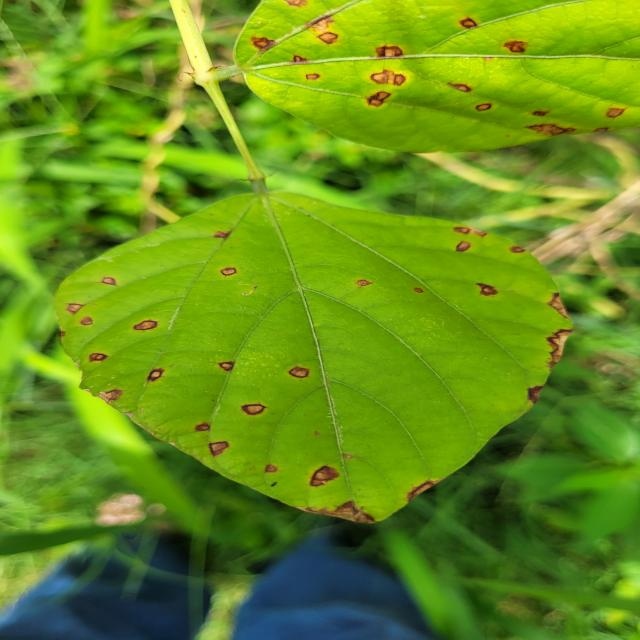Dolicos bean_cercospora leaf spot: (40, 188, 578, 522), (240, 0, 639, 154)
